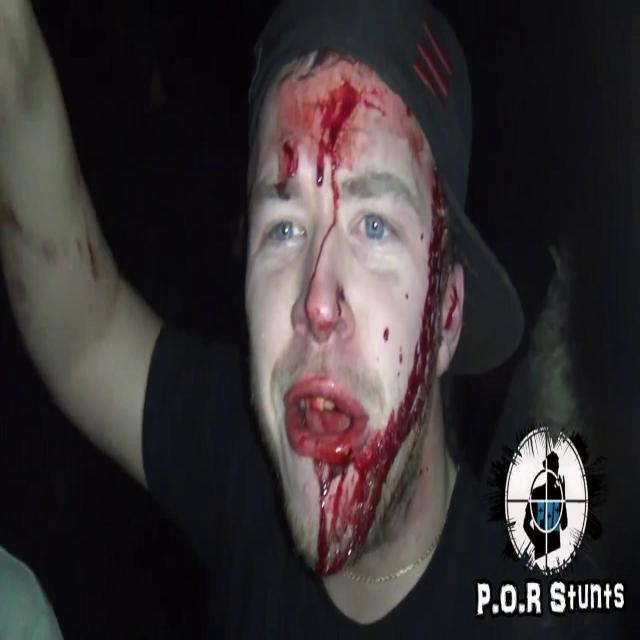flood: (319, 170, 451, 576), (270, 82, 400, 186)
